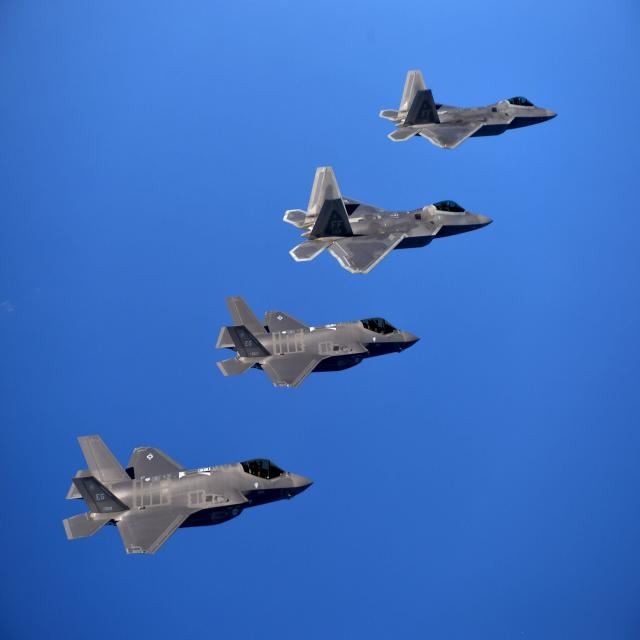F22: (63, 433, 319, 570), (285, 165, 494, 282), (216, 293, 420, 398), (383, 70, 562, 162)
